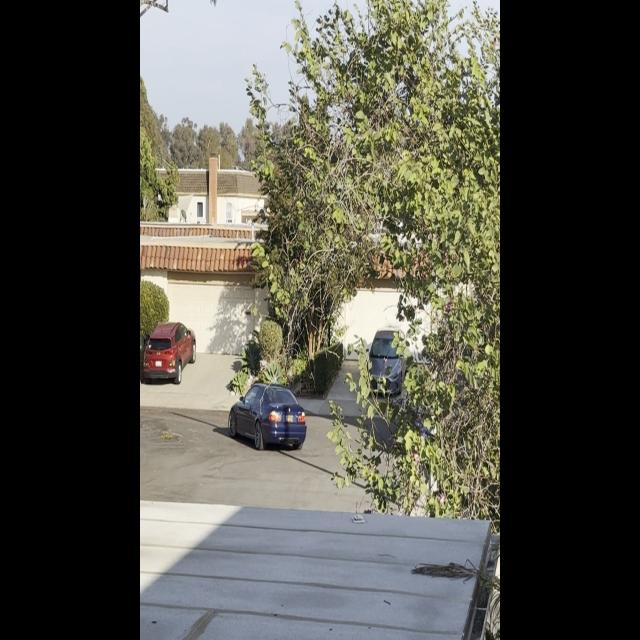Carbeetle: (226, 374, 307, 458)
Civilian: (140, 318, 199, 383), (363, 320, 409, 403)
